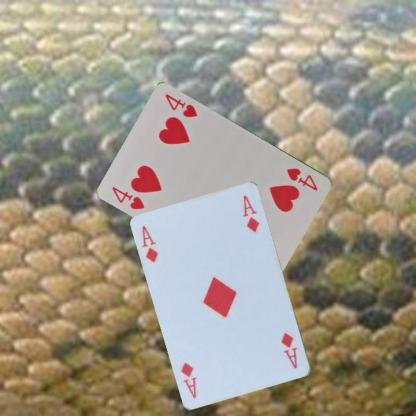4h: (284, 164, 320, 192), (109, 184, 146, 211)
Ad: (278, 330, 298, 370), (140, 223, 159, 264)
